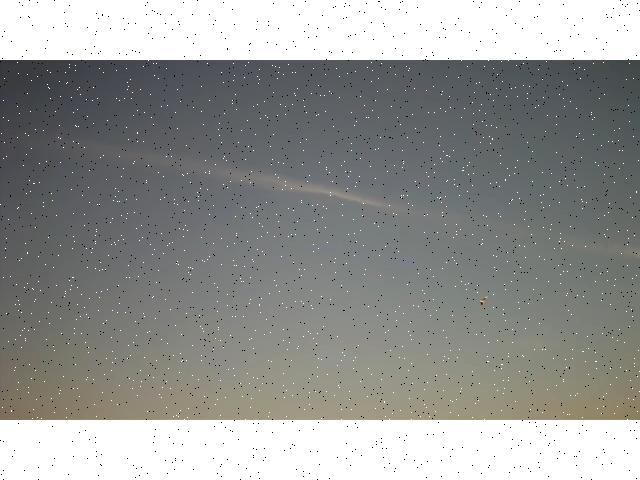Anti-Drone: (469, 287, 501, 310)
